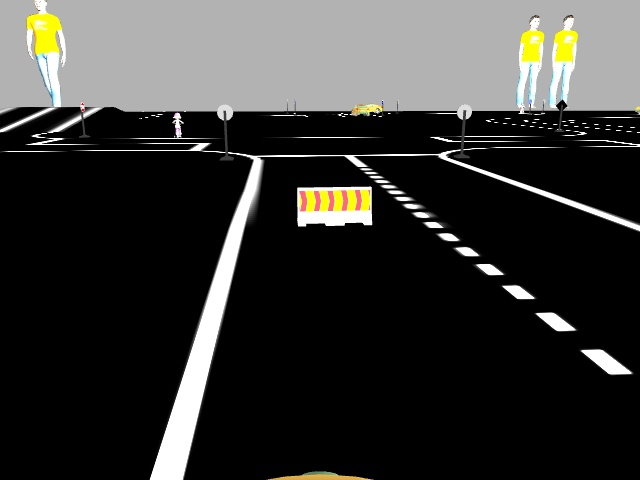ClosedRoadStand: (296, 187, 373, 224)
